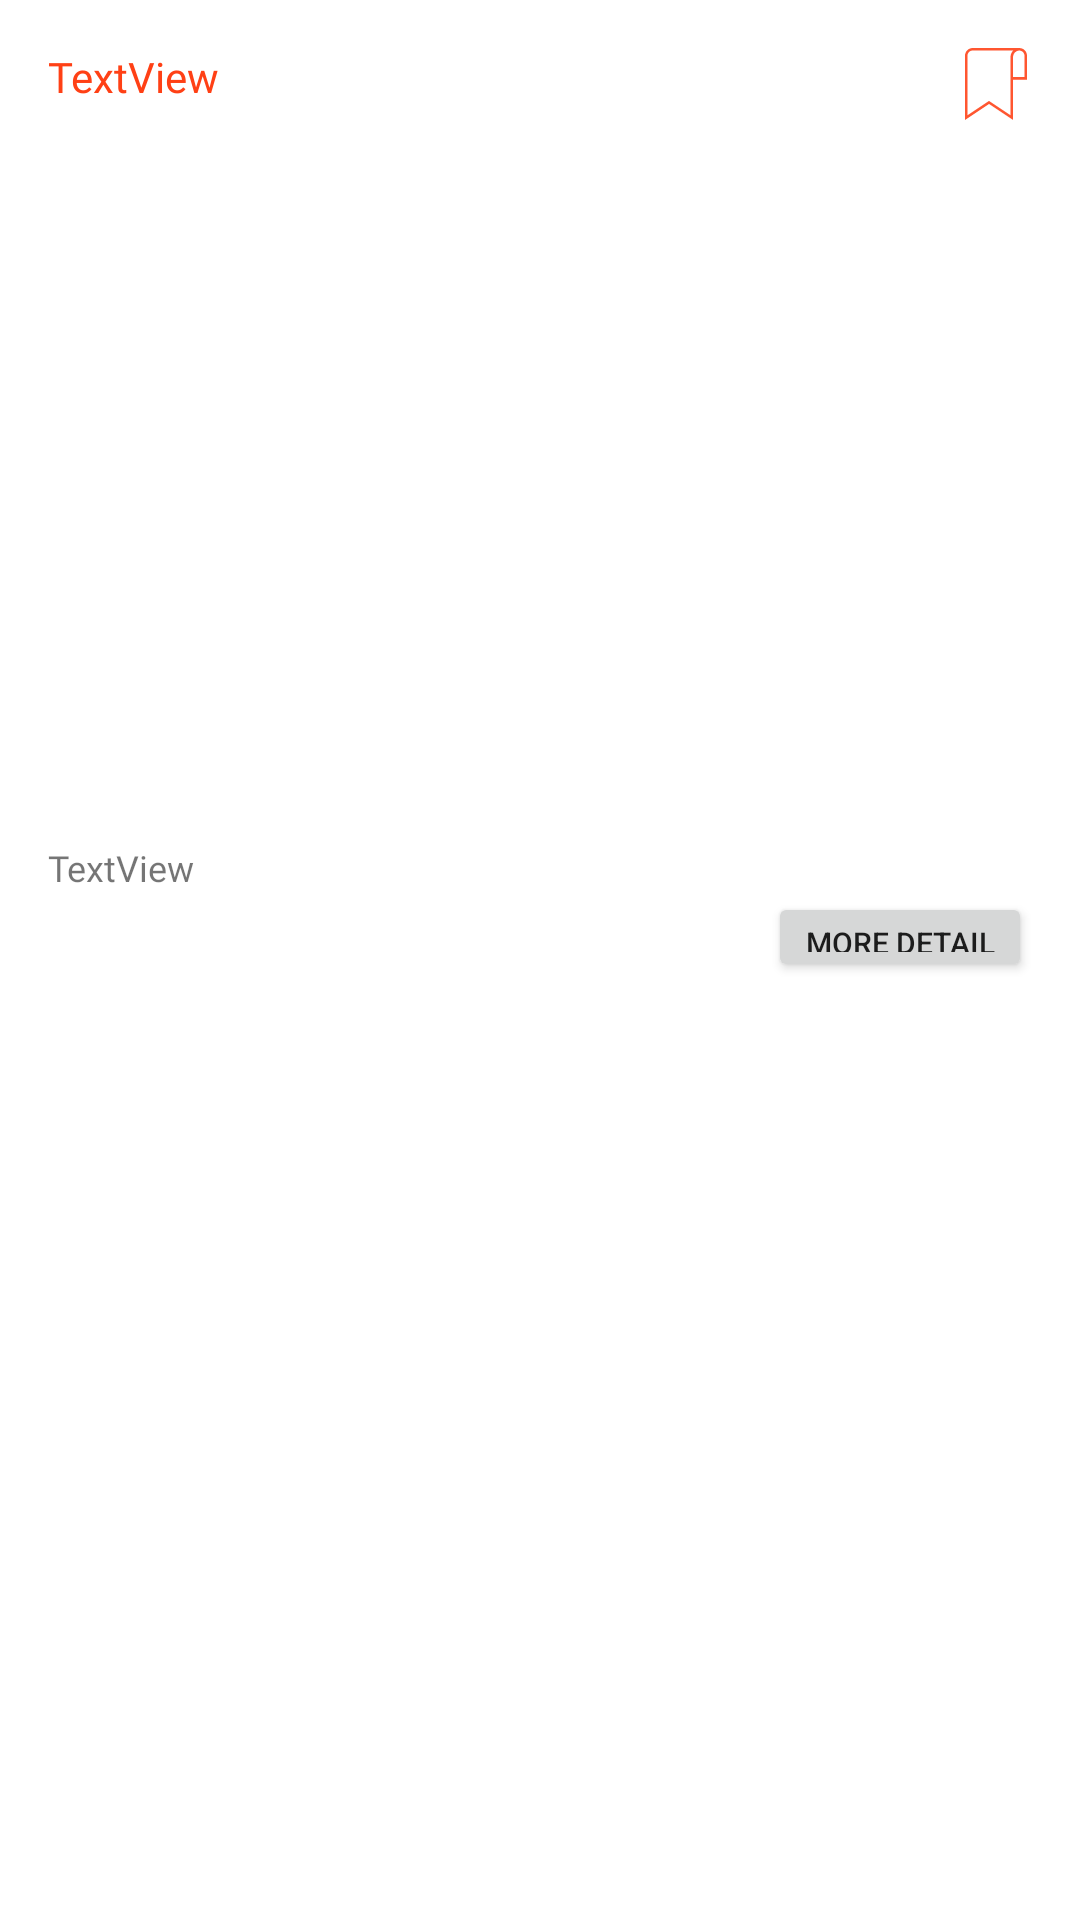

Named icons in this screenshot (1080px x 1920px) and their centers, [x,y]:
bookmark: [996,84]
